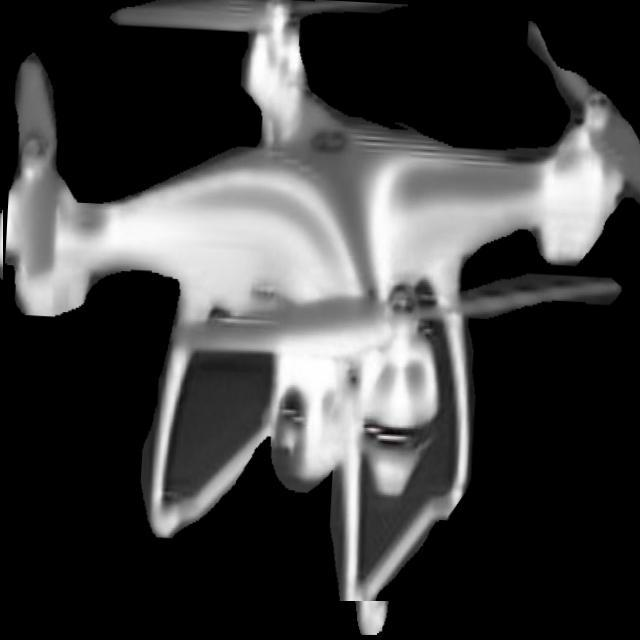drone: (3, 0, 640, 601)
